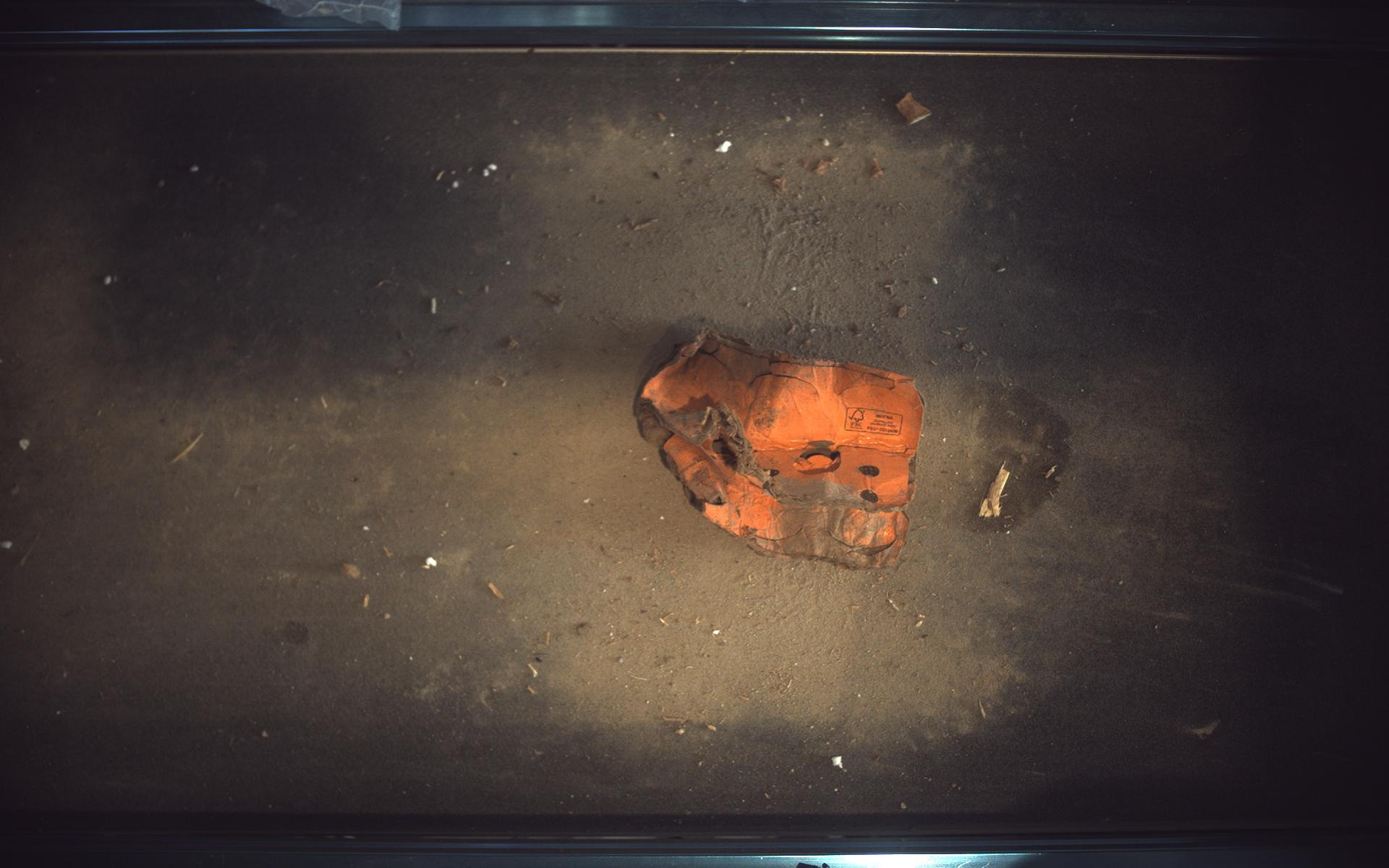general_w: (636, 330, 925, 569)
